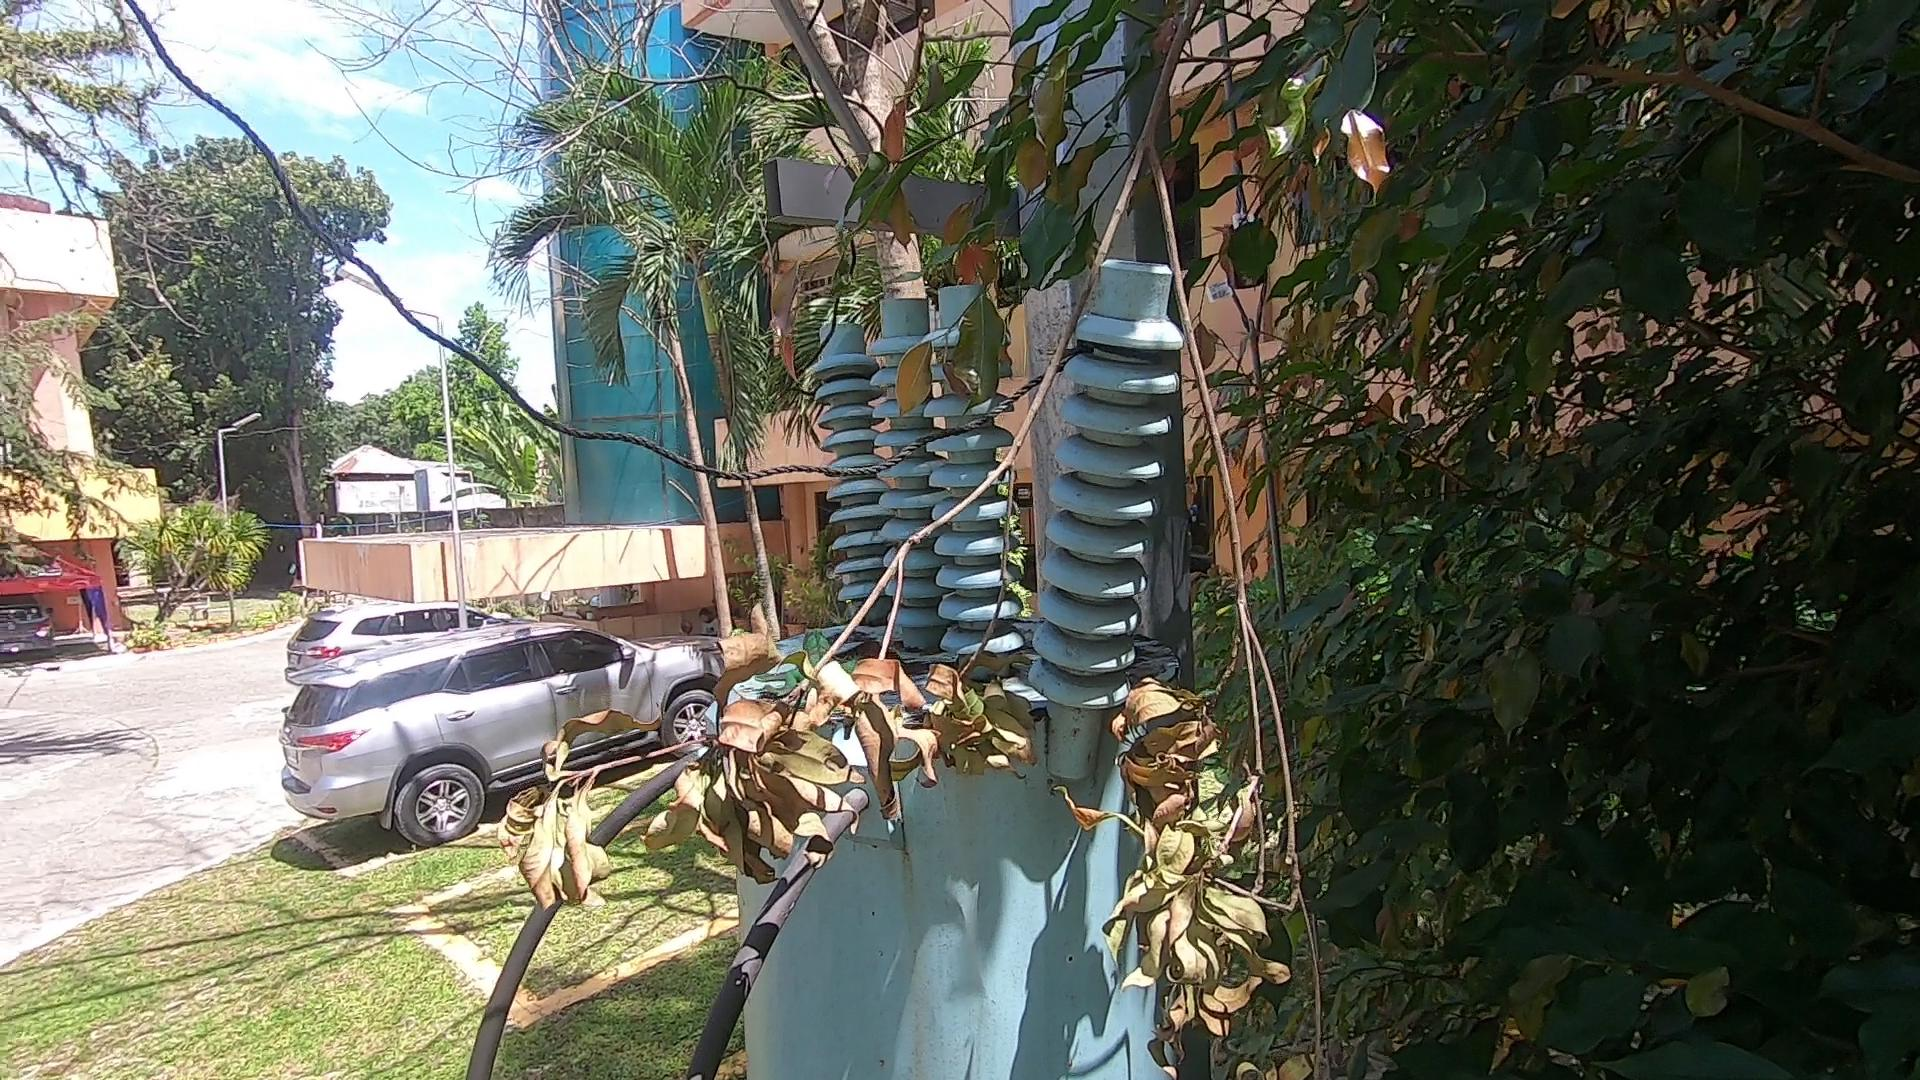branch with leaves: (485, 1, 1389, 1071)
